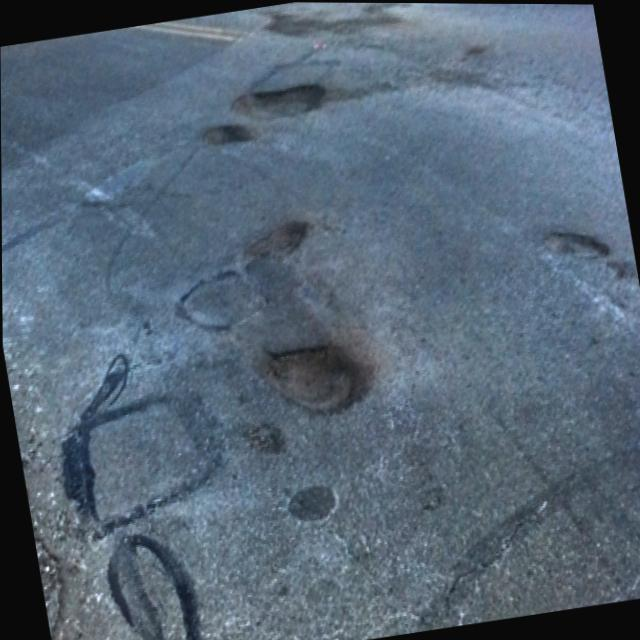Pothole: (263, 347, 357, 415), (239, 81, 325, 122), (537, 227, 615, 263), (254, 215, 301, 261), (203, 120, 253, 147)
